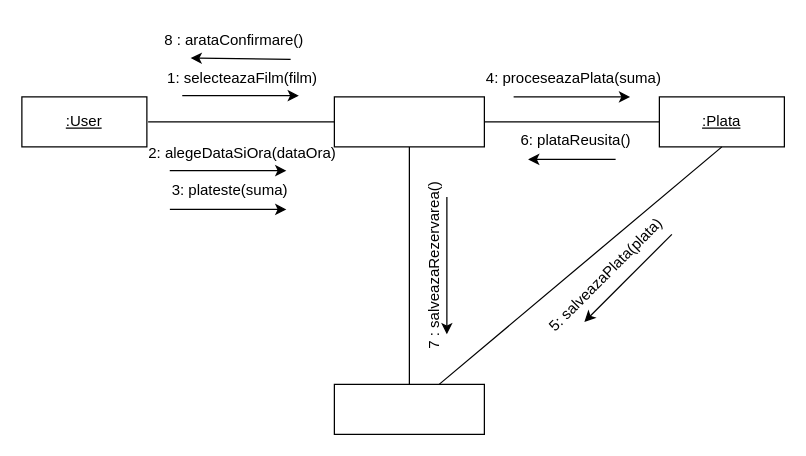
Some shapes in this 806 by 456 pixel diagram are drawn without their labels. The centre of each missing label's shape, as x and y in pixels:
":BazaDeDate" belongs at point (408, 408).
":BookingController" belongs at point (408, 121).
